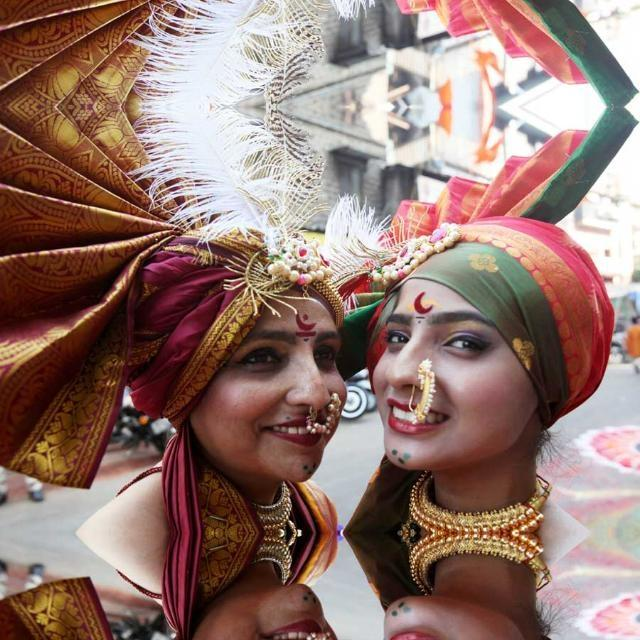person: (100, 175, 366, 532), (358, 202, 616, 532), (99, 532, 366, 640), (357, 532, 616, 640), (99, 0, 366, 36), (357, 0, 616, 10)
